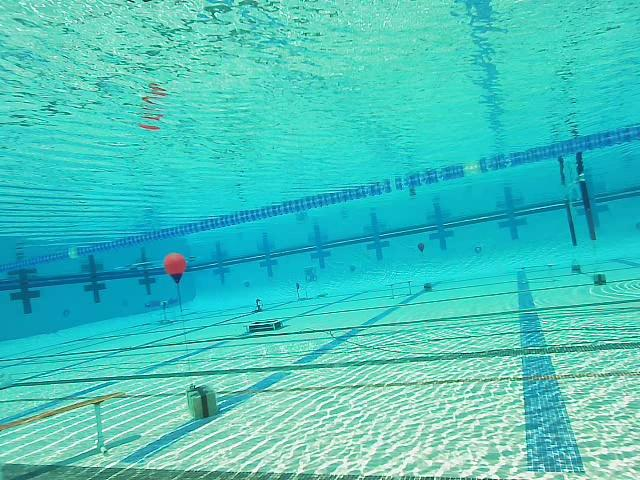buoy: (164, 252, 186, 285)
